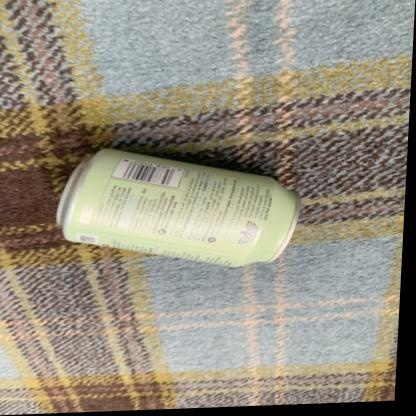trash: (57, 149, 300, 266)
